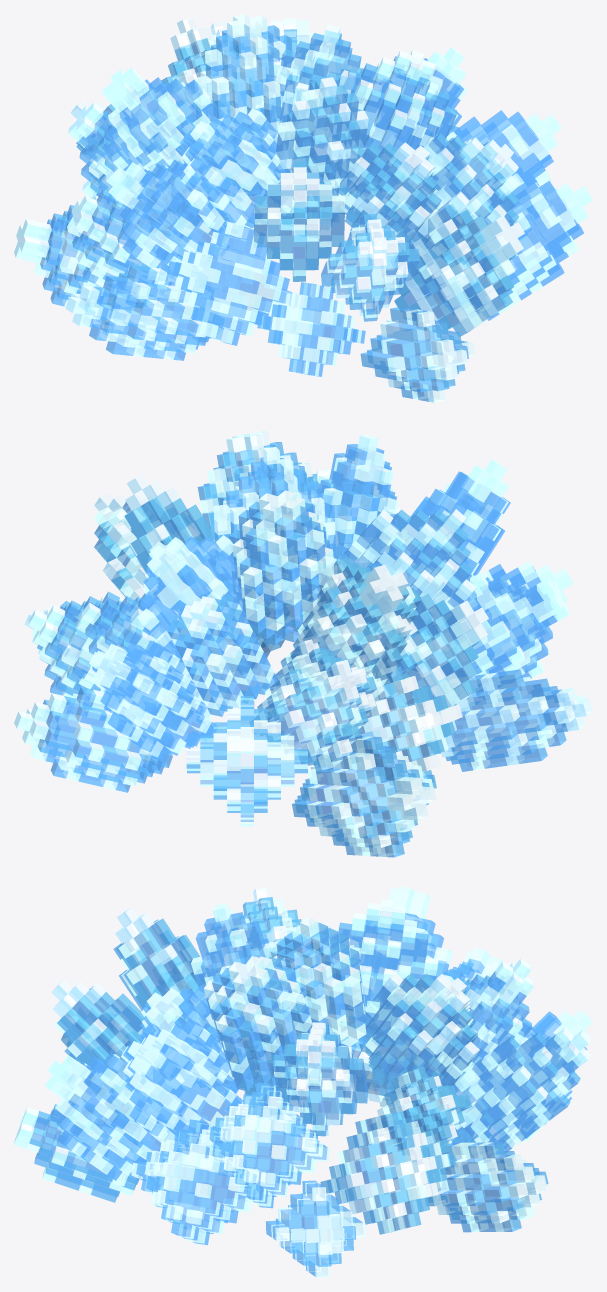
Rendered from voxel_dragon_ice.glb.
3 views of the same model, one above another, from view 1: azimuth 30°, elevation 25°; view 2: azimuth 150°, elevation 25°; view 3: azimuth 270°, elevation 25° (orthographic). The views are drawn at different scales.
Parts seen in each view (by area): view 1: Ice10, Ice18, Ice25, Ice4, Ice12, Ice22, Ice27, Ice26, Ice17, Ice5, Ice23, Ice29 (+17 smaller); view 2: Ice27, Ice1, Ice22, Ice4, Ice14, Ice3, Ice11, Ice25, Ice6, Ice12, Ice29, Ice24 (+15 smaller); view 3: Ice11, Ice26, Ice24, Ice18, Ice10, Ice8, Ice27, Ice5, Ice13, Ice29, Ice3, Ice19 (+17 smaller).
Boxes of the visible parts, x1,y1,x2,y2 form: Ice10: (394,204,524,336); Ice18: (385,133,519,264); Ice25: (180,108,295,233); Ice4: (65,265,224,360); Ice12: (166,222,296,345); Ice22: (102,67,239,207); Ice27: (194,14,304,160); Ice26: (335,50,456,193); Ice17: (109,159,231,270); Ice5: (420,178,592,320); Ice23: (333,142,442,246); Ice29: (260,24,382,166); Ice27: (229,490,340,644); Ice1: (292,735,436,857); Ice22: (288,558,421,694); Ice4: (426,669,592,771); Ice14: (249,638,383,774); Ice3: (14,687,173,792); Ice11: (89,640,217,762); Ice25: (340,509,475,635); Ice6: (186,696,307,826); Ice12: (419,572,569,699); Ice29: (213,447,336,600); Ice24: (137,535,261,660); Ice11: (443,1027,591,1152); Ice26: (203,956,322,1091); Ice24: (363,973,479,1091); Ice18: (121,1019,244,1151); Ice10: (45,1053,185,1180); Ice8: (320,1112,456,1234); Ice27: (317,899,438,1047); Ice5: (131,1119,266,1245); Ice13: (201,1082,329,1208); Ice29: (269,917,366,1046); Ice3: (425,1142,548,1232); Ice19: (415,958,534,1086).
Bounding box in the file's own units: 22.86 × 13.02 × 22.61.
